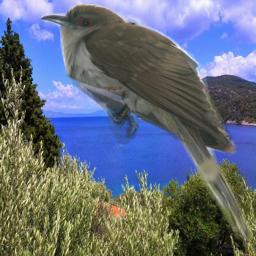Cuckoo: (41, 4, 253, 245)
